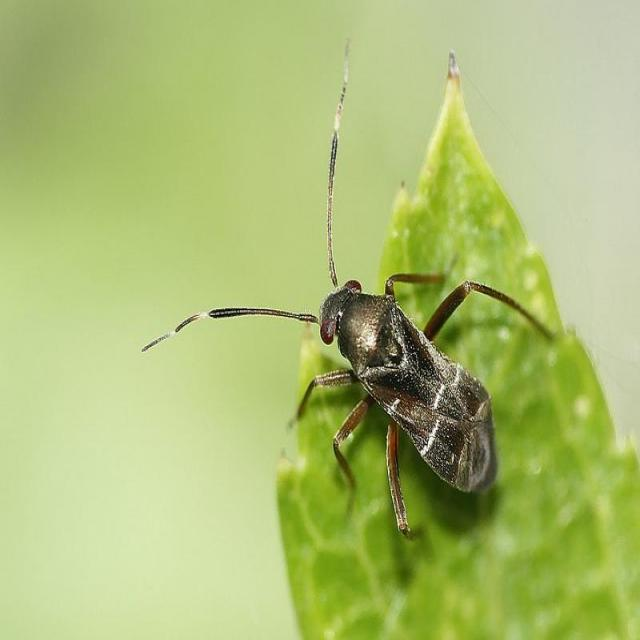Miridae-Adult-: (139, 33, 568, 545)
